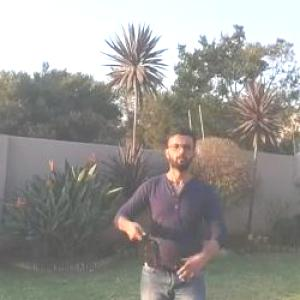follow: (107, 118, 233, 299)
